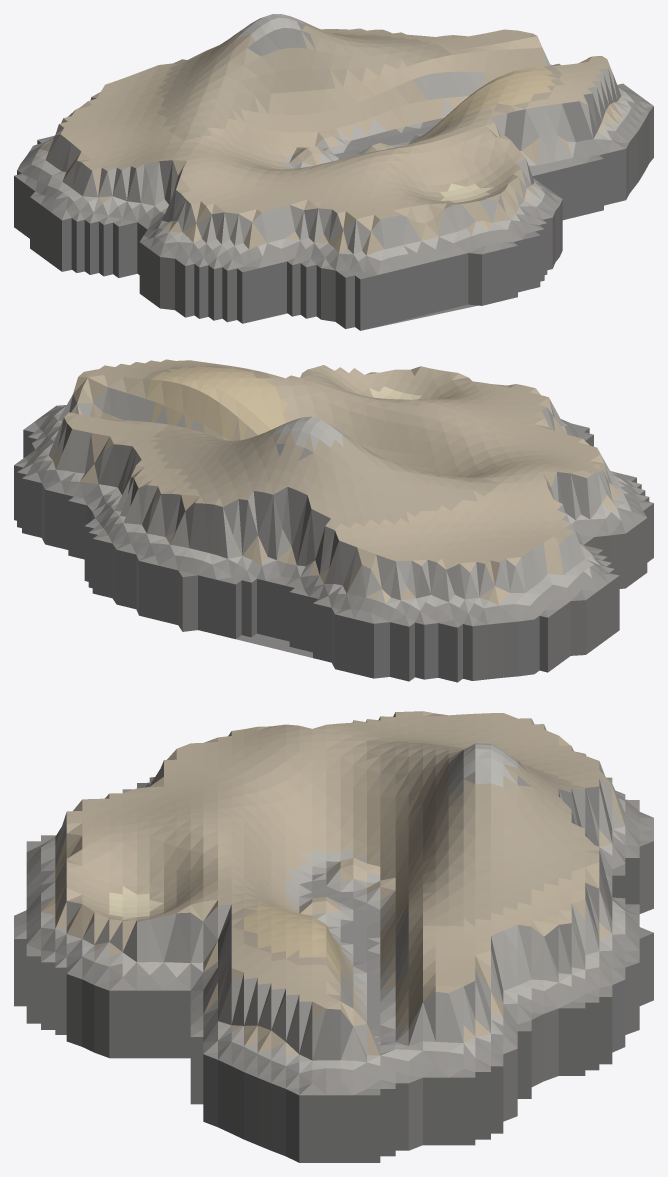
The model's file is island_terrain.glb.
3 renders of one model, top to bottom at view 1: azimuth 30°, elevation 25°; view 2: azimuth 150°, elevation 25°; view 3: azimuth 270°, elevation 25°, orthographic. The views are drawn at different scales.
Parts seen in each view (by area): view 1: Island; view 2: Island; view 3: Island.
Part boxes in pixels (bbox=[...]): Island: bbox=[14, 14, 653, 330]; Island: bbox=[14, 359, 653, 682]; Island: bbox=[14, 711, 653, 1162].
Size of the model in its own units: 199 by 56.32 by 150.
